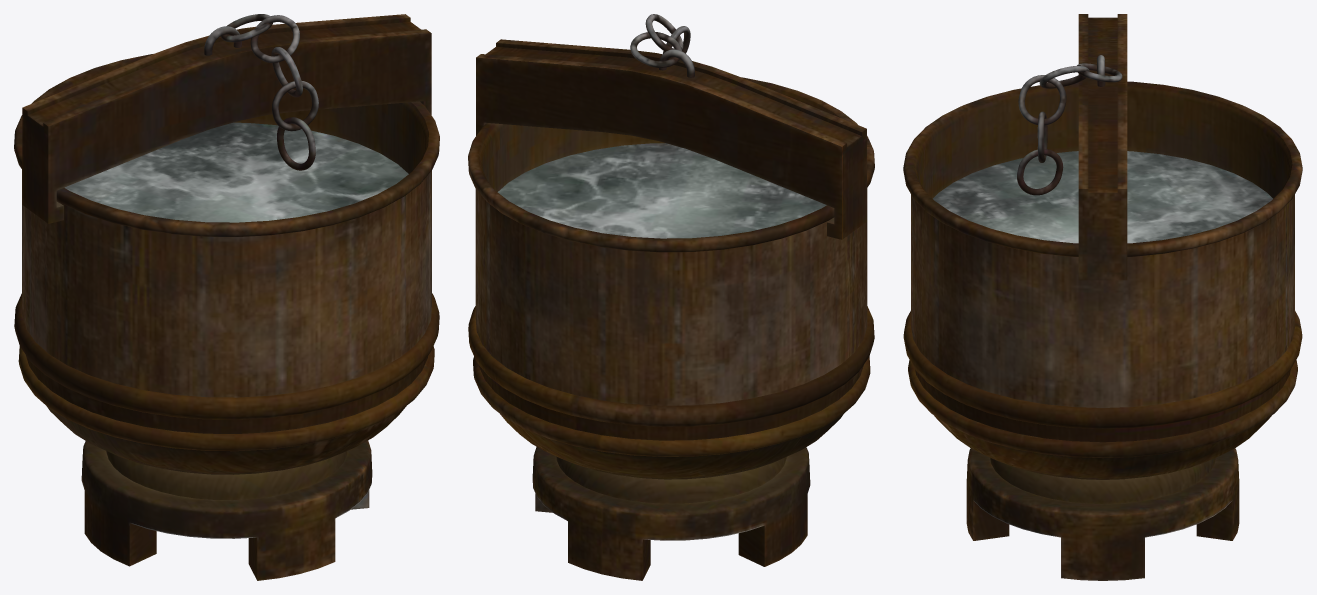
File: xi_dsp_water_pot.gltf
3 renders of one model, left to right at view 1: azimuth 30°, elevation 25°; view 2: azimuth 150°, elevation 25°; view 3: azimuth 270°, elevation 25°, orthographic. The views are drawn at different scales.
Visible parts, largest first — view 1: xi_dsp_water_pot; view 2: xi_dsp_water_pot; view 3: xi_dsp_water_pot.
Boxes of the visible parts, left/top/right/bottom form: xi_dsp_water_pot: left=14, top=14, right=439, bottom=580; xi_dsp_water_pot: left=468, top=14, right=874, bottom=580; xi_dsp_water_pot: left=903, top=14, right=1302, bottom=580.
Bounding box in the file's own units: 0.5905 × 0.7468 × 0.5693.
Materials: 1 (1 with a texture image).
